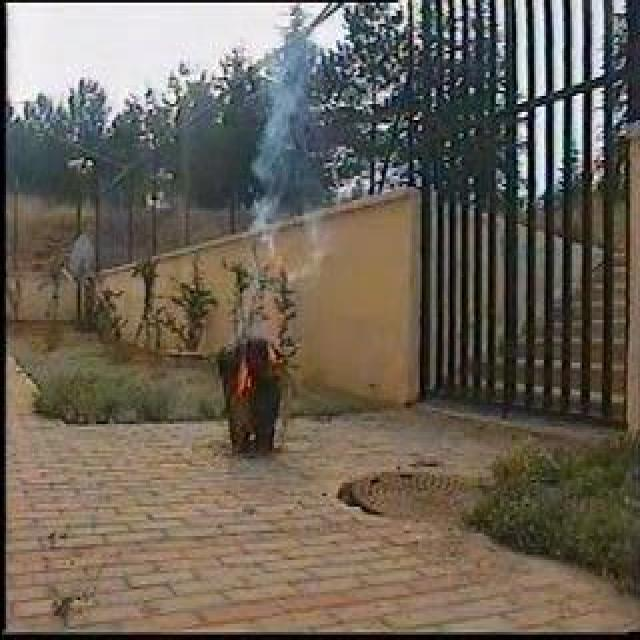fire: (229, 353, 257, 396)
smoke: (246, 43, 310, 264)
